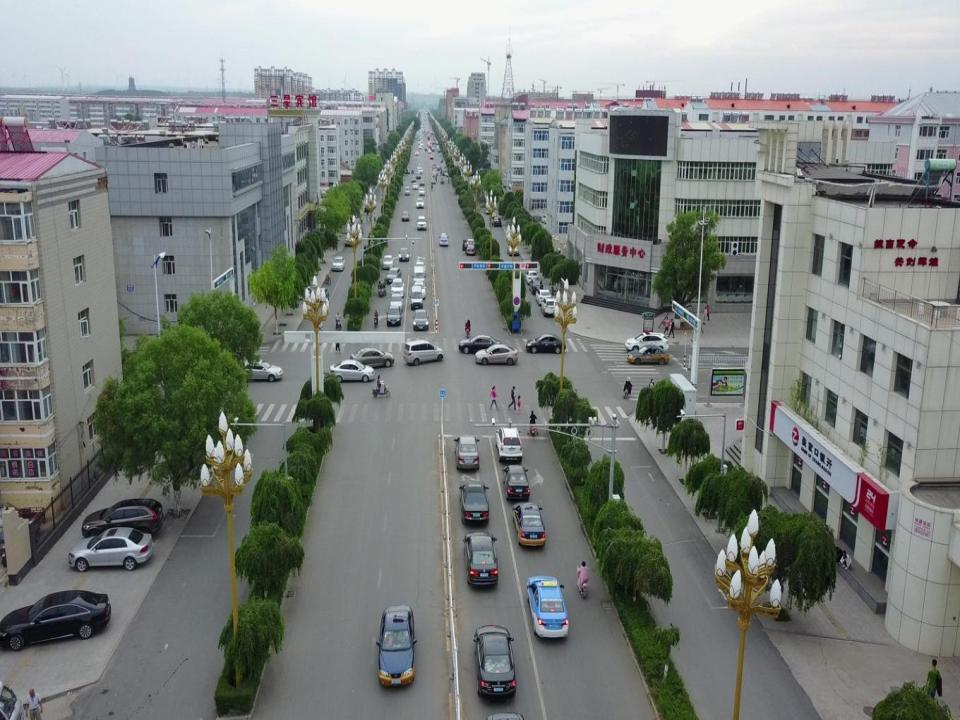car: (0, 589, 112, 651), (68, 527, 154, 571), (81, 498, 164, 541), (376, 604, 417, 686), (473, 625, 516, 699), (527, 575, 568, 637), (463, 531, 499, 585), (512, 502, 546, 546), (460, 480, 489, 523), (237, 358, 283, 382), (329, 360, 375, 382), (502, 465, 530, 501), (350, 347, 395, 369), (495, 426, 522, 462), (627, 343, 670, 365), (625, 332, 670, 353), (475, 344, 518, 365), (458, 335, 503, 355), (454, 436, 480, 468), (526, 333, 566, 353), (412, 309, 429, 330), (386, 305, 402, 326), (541, 296, 557, 316), (388, 292, 404, 310), (390, 278, 404, 298), (386, 268, 402, 284), (535, 289, 551, 305), (314, 288, 330, 303), (530, 278, 544, 294), (524, 270, 538, 284), (332, 256, 344, 271), (398, 248, 410, 262), (382, 255, 394, 269), (414, 262, 426, 276), (463, 243, 476, 255), (345, 234, 358, 246), (417, 216, 427, 231), (507, 244, 519, 256), (438, 233, 448, 246), (462, 238, 476, 247), (491, 216, 502, 227), (354, 225, 364, 236), (416, 198, 424, 208), (401, 212, 409, 221), (540, 215, 549, 223), (445, 170, 454, 177), (484, 207, 492, 214), (419, 187, 425, 196), (491, 213, 498, 219), (411, 175, 416, 183), (441, 169, 447, 175), (412, 183, 418, 189), (419, 179, 425, 185), (432, 171, 438, 176), (430, 178, 436, 183), (416, 172, 420, 179), (418, 168, 423, 173), (432, 169, 437, 174), (406, 168, 410, 174), (430, 154, 434, 159), (417, 165, 422, 169), (415, 151, 419, 155), (437, 148, 441, 152), (436, 166, 440, 170), (428, 150, 431, 154)
van: (403, 340, 444, 365), (409, 286, 423, 310), (412, 266, 426, 286), (405, 185, 410, 195), (432, 174, 437, 182), (432, 163, 436, 168)
